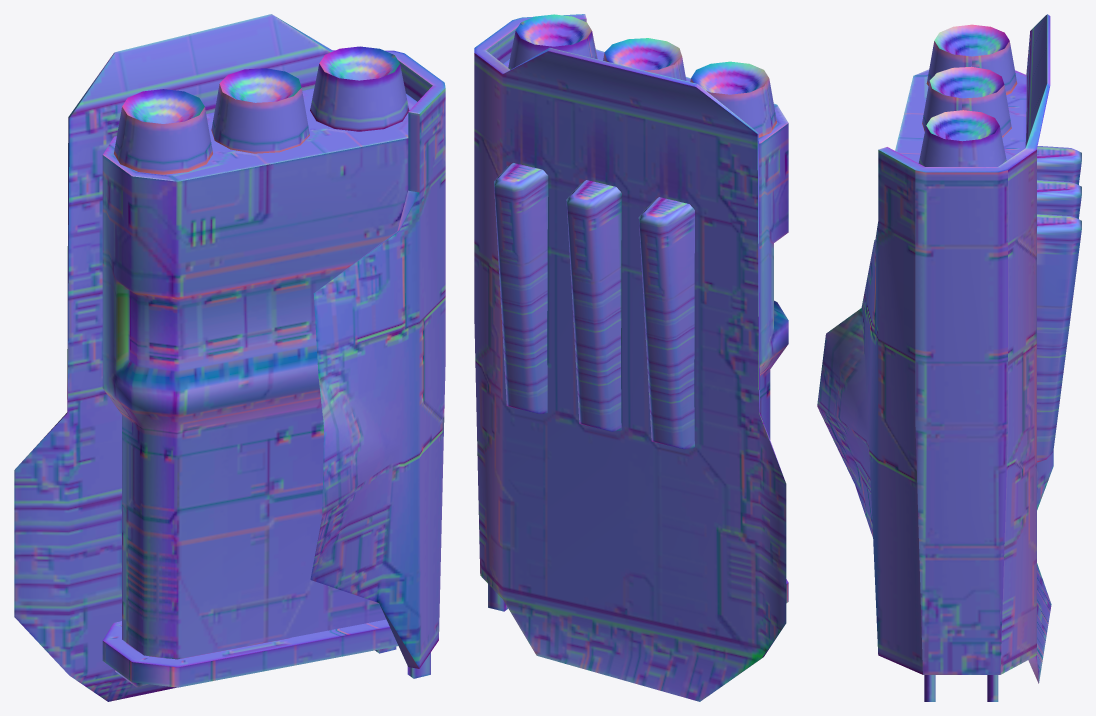
File: ship_debris_03_part_01.glb
The picture shows the model from 3 angles, left to right: view 1: azimuth 30°, elevation 25°; view 2: azimuth 150°, elevation 25°; view 3: azimuth 270°, elevation 25°; orthographic projection. The views are drawn at different scales.
Visible parts, largest first — view 1: ship_debris_03_part_01; view 2: ship_debris_03_part_01; view 3: ship_debris_03_part_01.
Part boxes in pixels (left/top/right/bottom): ship_debris_03_part_01: left=14, top=14, right=445, bottom=701; ship_debris_03_part_01: left=474, top=14, right=788, bottom=701; ship_debris_03_part_01: left=817, top=14, right=1081, bottom=701.
Bounding box in the file's own units: 3.62 × 6.25 × 2.53.
1 material, 1 textured.
